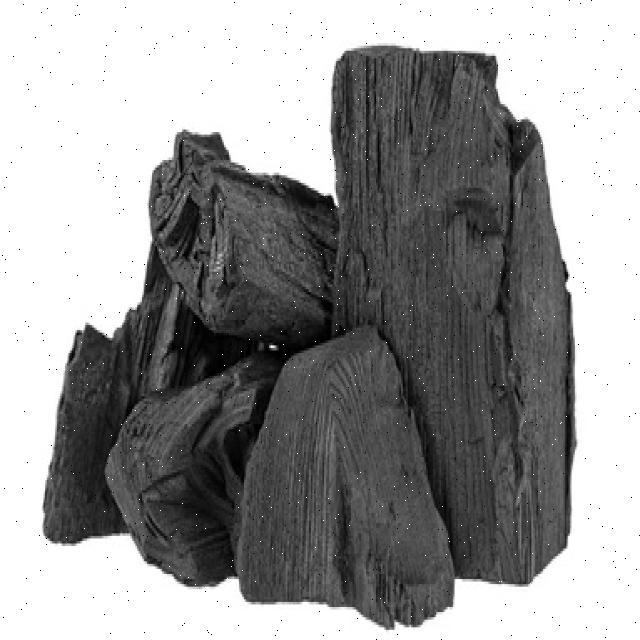Sedimentary: (35, 38, 577, 620)
